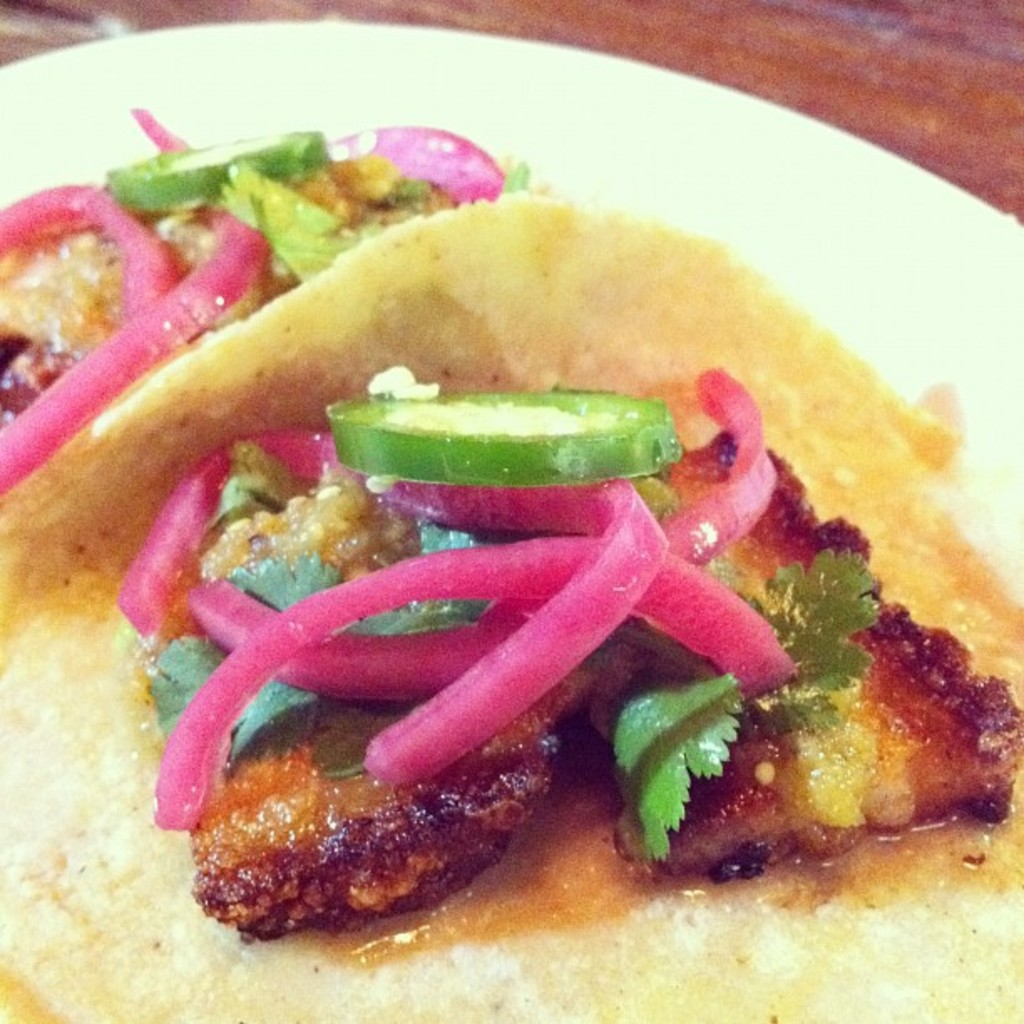taco: (0, 115, 1024, 975)
